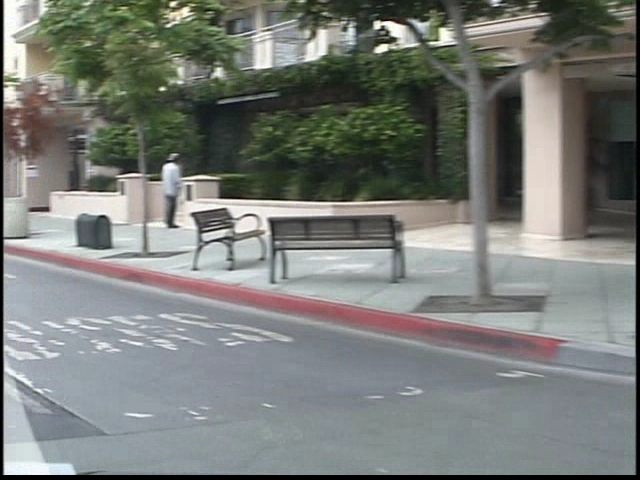person: (138, 148, 176, 239)
